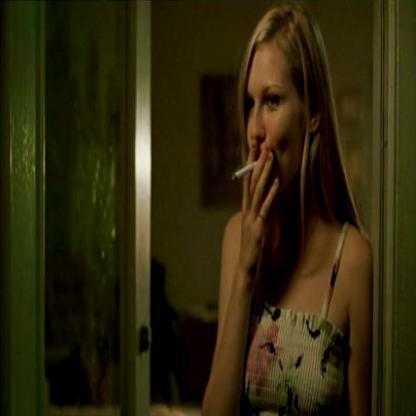cigarette: (230, 159, 260, 183)
person: (216, 13, 378, 415)
